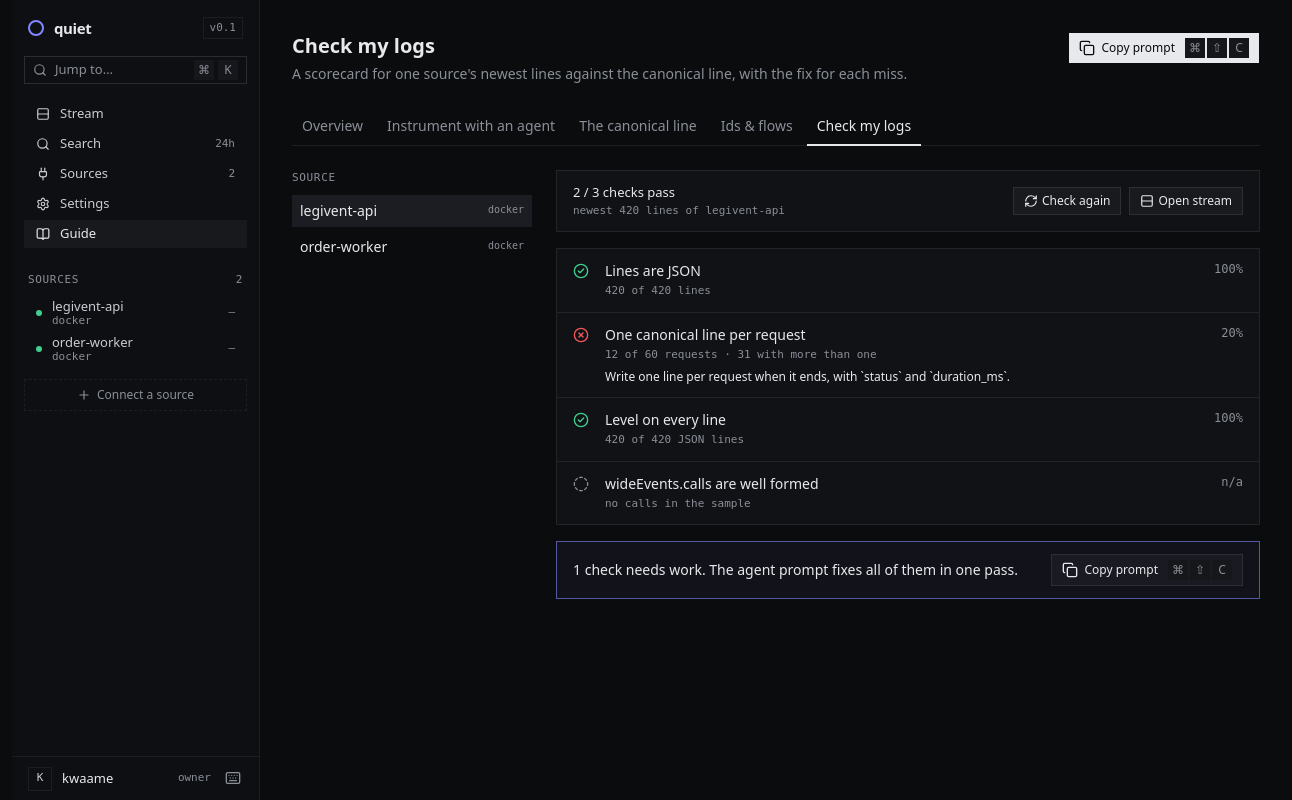
it: Guide (11.x) › Check my logs scores the first source and switches sources
Expected: the text "2 / 3 checks pass" is shown, 573,183 -> 675,201
Expected: the number of list items is 4, 557,249 -> 1259,312; 557,312 -> 1259,398; 557,398 -> 1259,462; 573,474 -> 1243,510
Click the link "order-worker docker": (344, 246) 300,236 -> 524,256
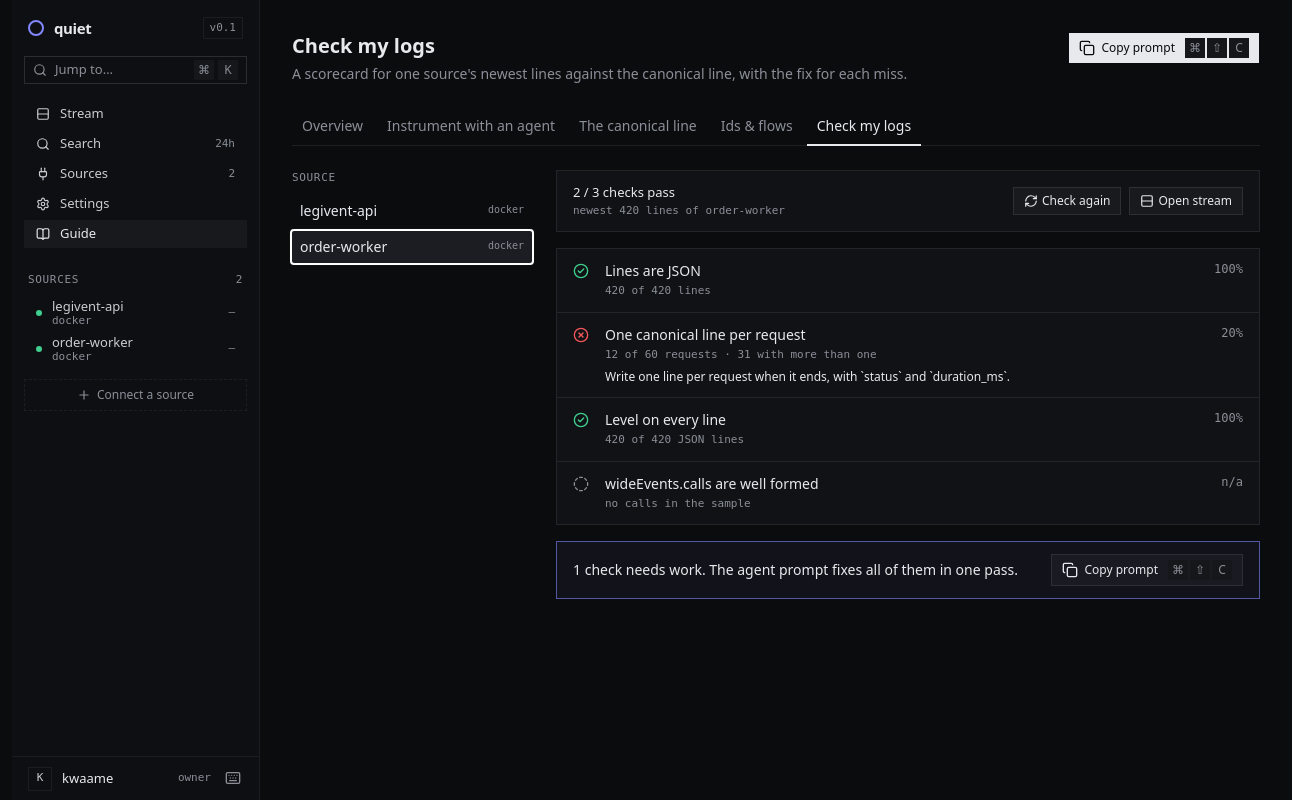
Expected: the text "order-worker" below "Guide" is shown, 52,332 -> 133,350
Result: the text "newest 420 lines of order-worker" is shown at 573,202 -> 785,219
